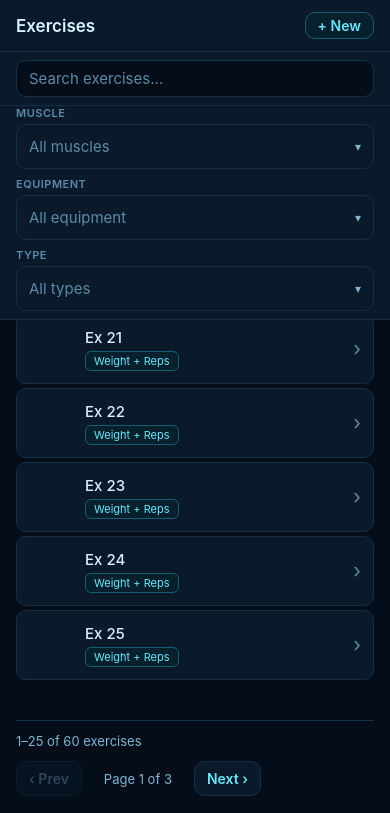
it: walks to the next page and reports where it is
(page scrolled)
Check: the text "Page 1 of 3" is shown, box top-left (104, 770), bottom-right (172, 786)
Check: the text "1–25 of 60 exercises" is shown, box top-left (16, 733), bottom-right (142, 749)
Click the button with aria-label "Next page": click(227, 778) top-left (194, 761), bottom-right (261, 796)
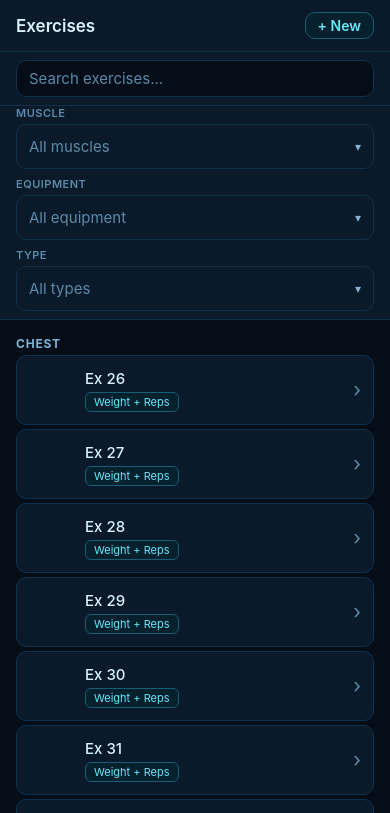
Check: the text "Ex 1" is not shown
Check: the text "Ex 26" is shown, box top-left (85, 368), bottom-right (125, 388)
